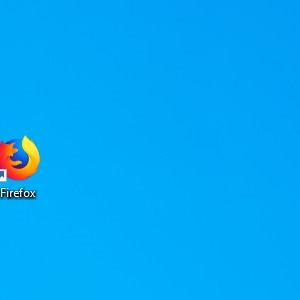firefox: (1, 134, 41, 181)
